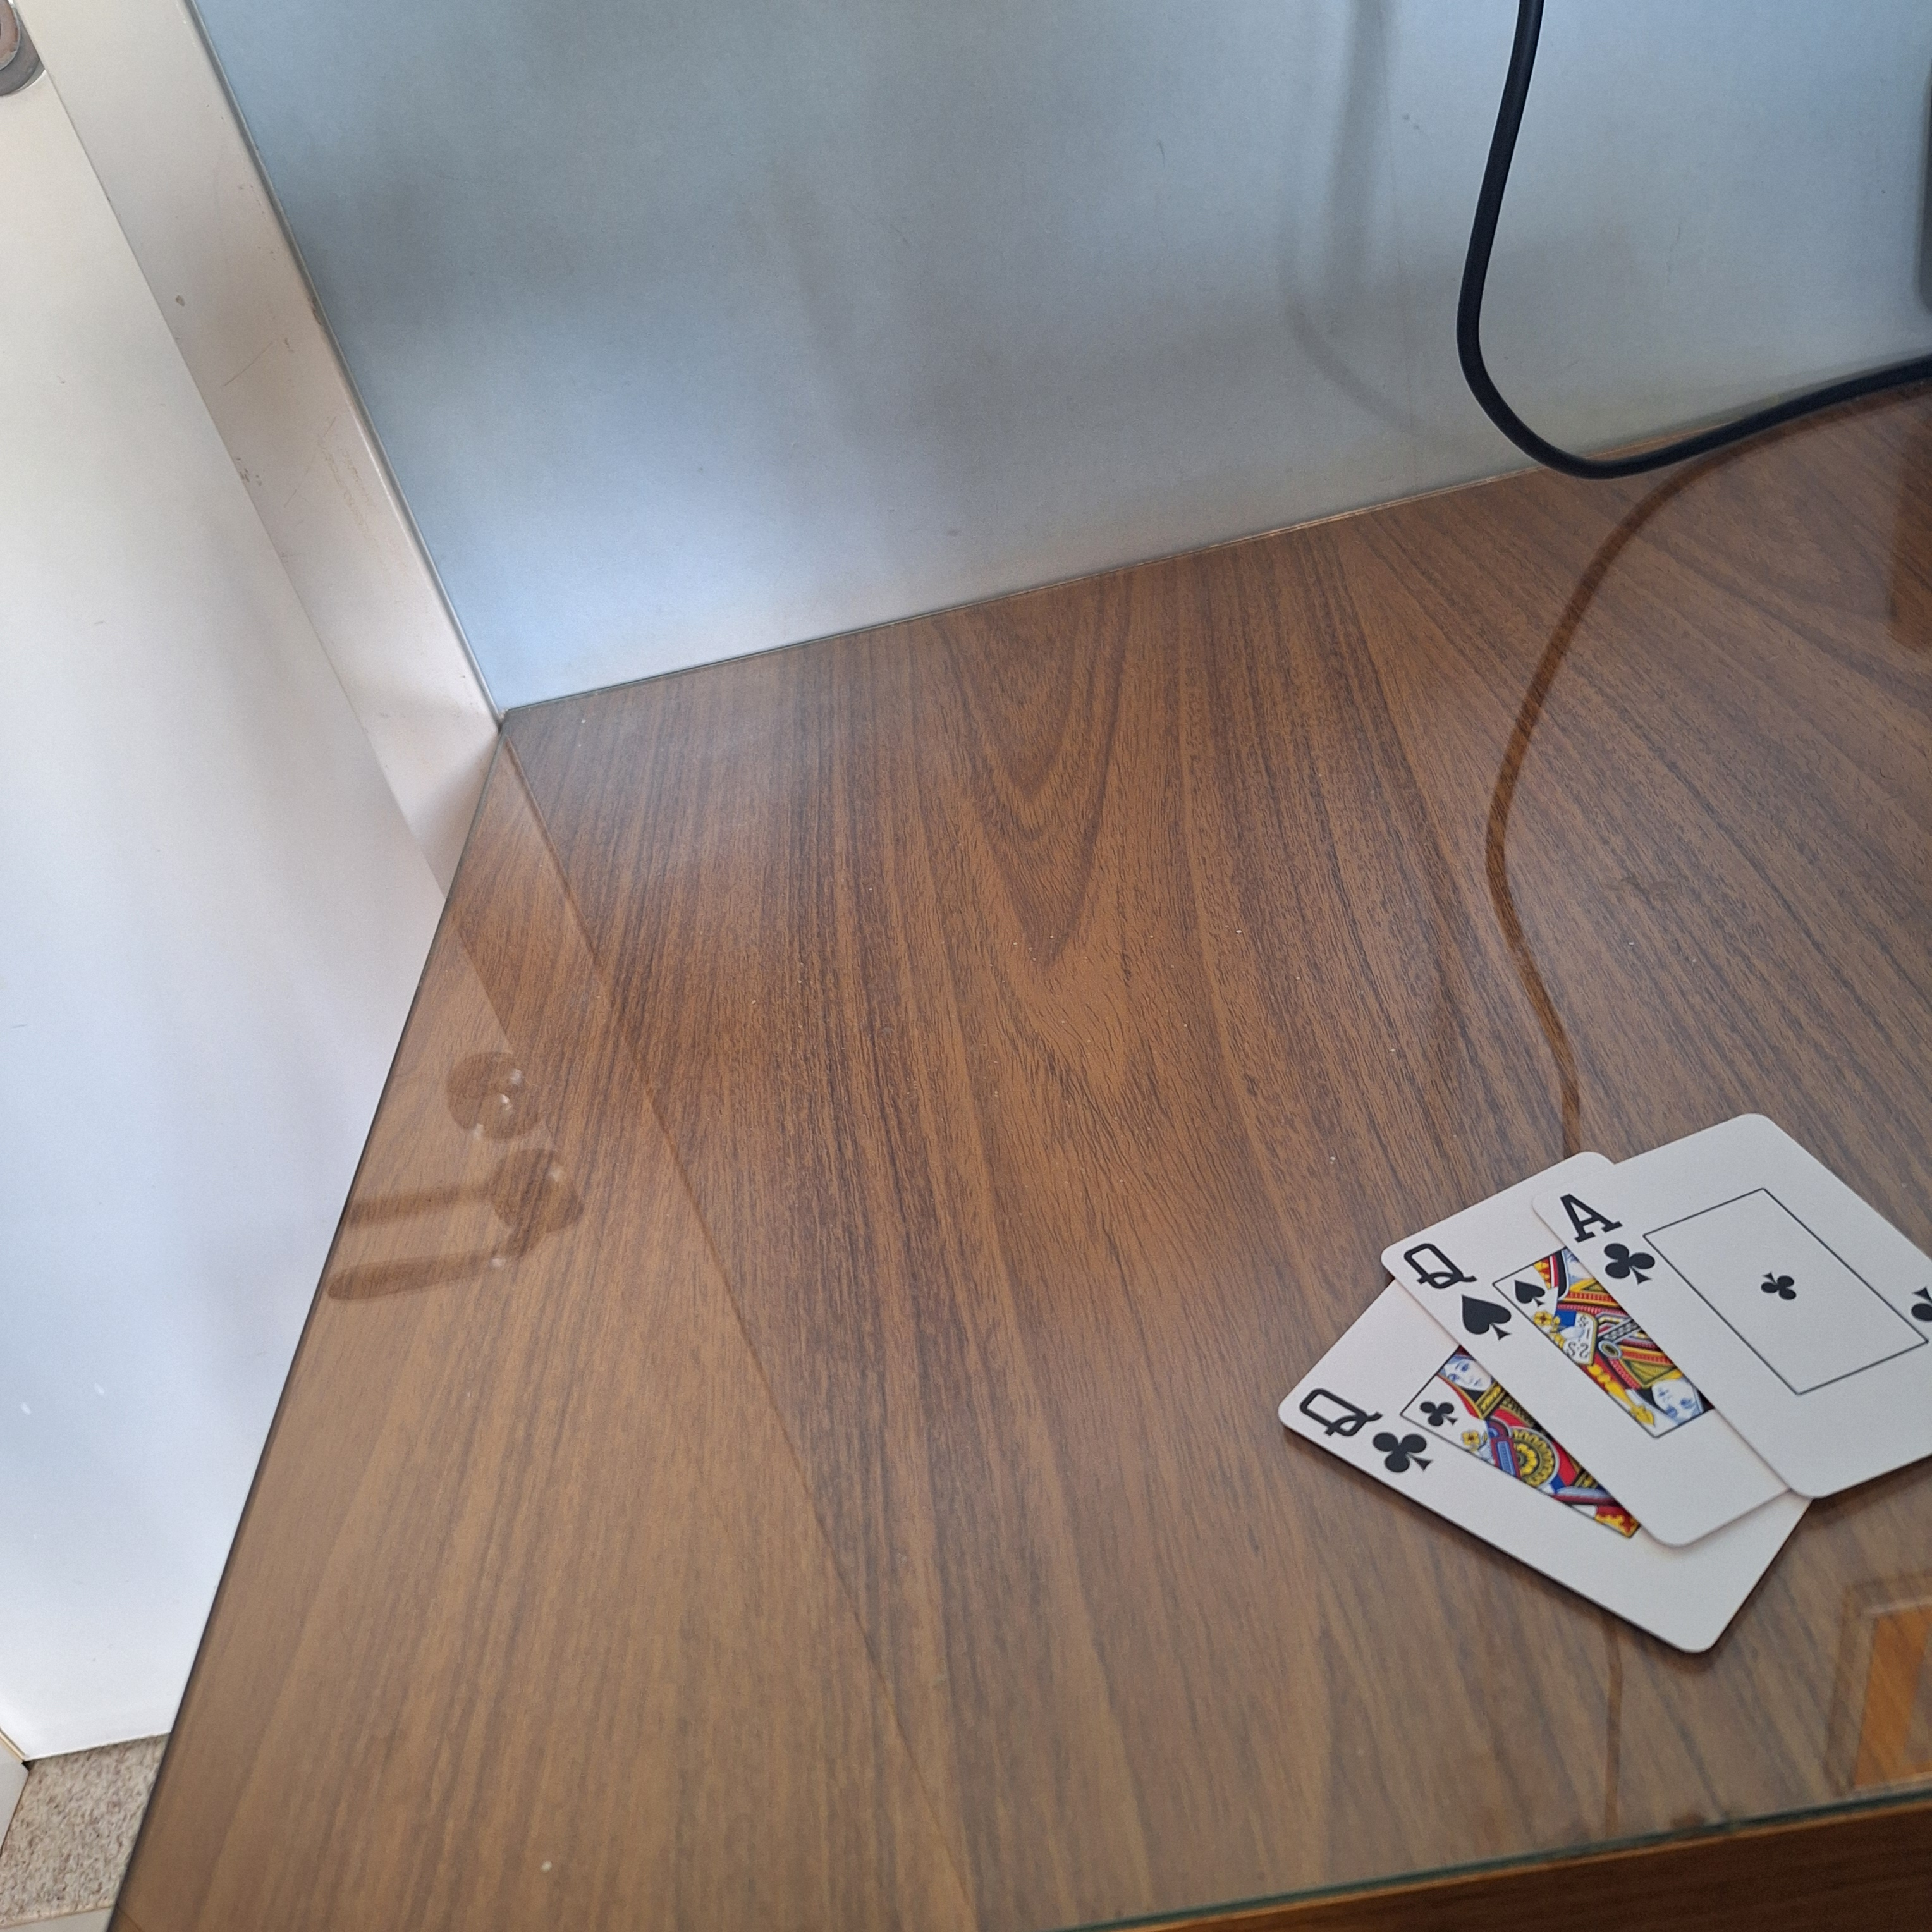AP: (1557, 1184, 1661, 1290)
QE: (1396, 1226, 1518, 1346)
QP: (1290, 1380, 1437, 1483)
